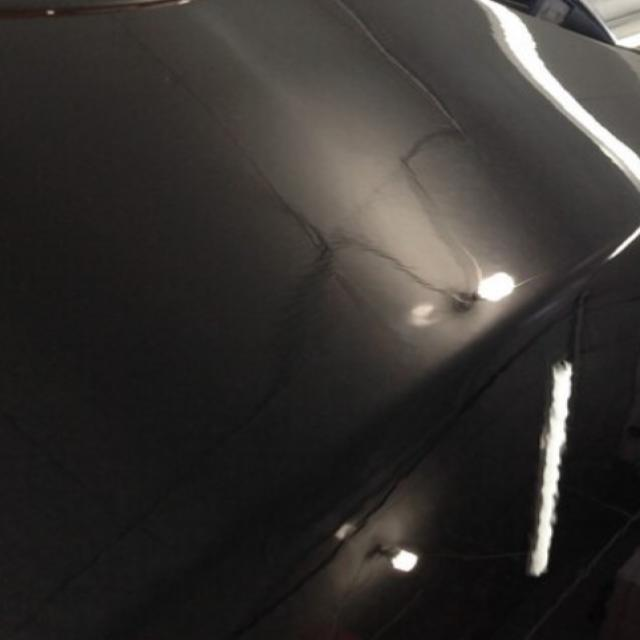dents: (410, 264, 507, 340)
